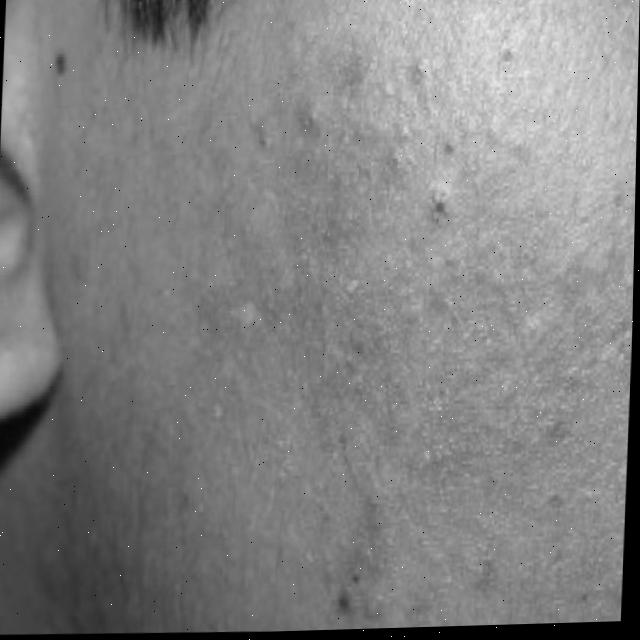Acne: (232, 29, 605, 592)
